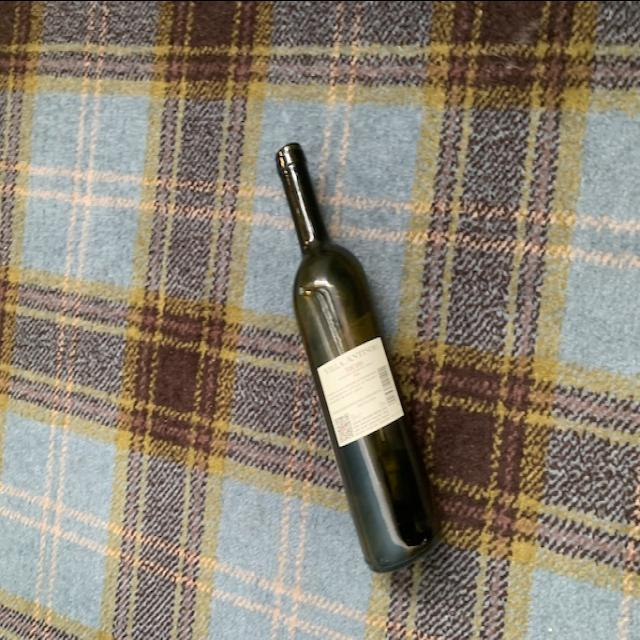litter: (276, 136, 439, 574)
